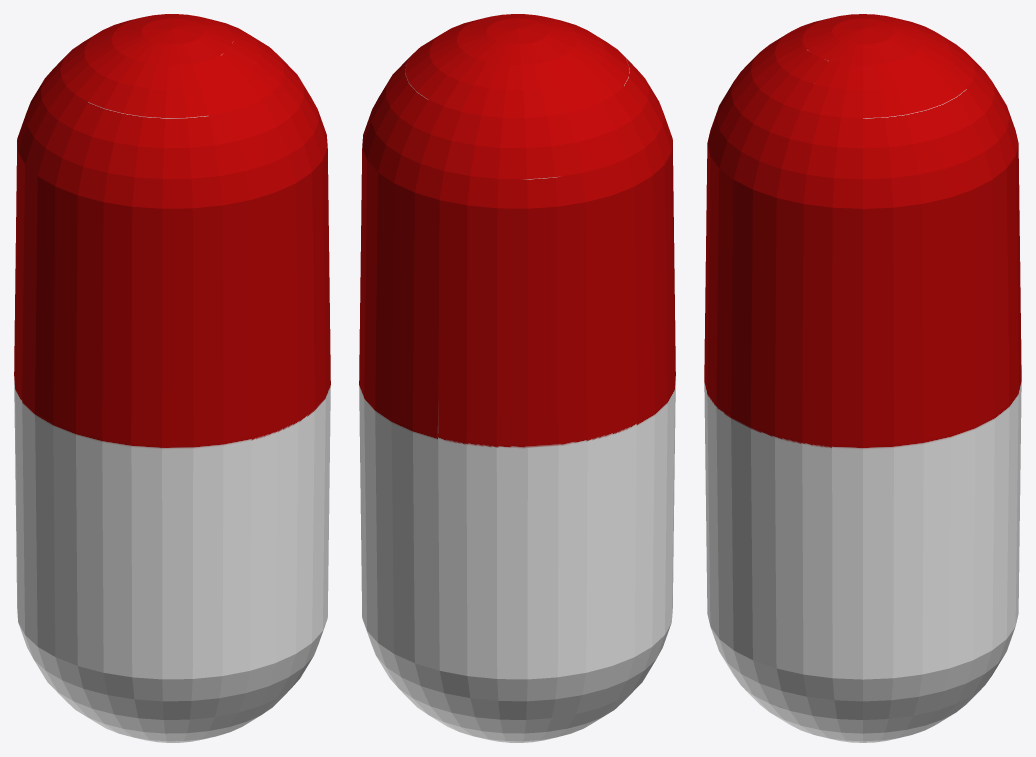
File: playerBullet.obj
3 renders of one model, left to right at view 1: azimuth 30°, elevation 25°; view 2: azimuth 150°, elevation 25°; view 3: azimuth 270°, elevation 25°, orthographic.
Visible parts, largest first — view 1: Sphere; view 2: Sphere; view 3: Sphere.
Part boxes in pixels (x1,y1,x2,y2): Sphere: (14,14,330,742); Sphere: (359,14,675,742); Sphere: (704,14,1021,742).
Size of the model in its own units: 2 by 4.86 by 2.
1 material, 1 textured.
